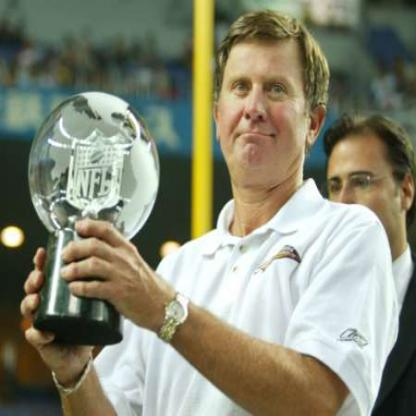face: (220, 14, 311, 184), (325, 122, 405, 256)
